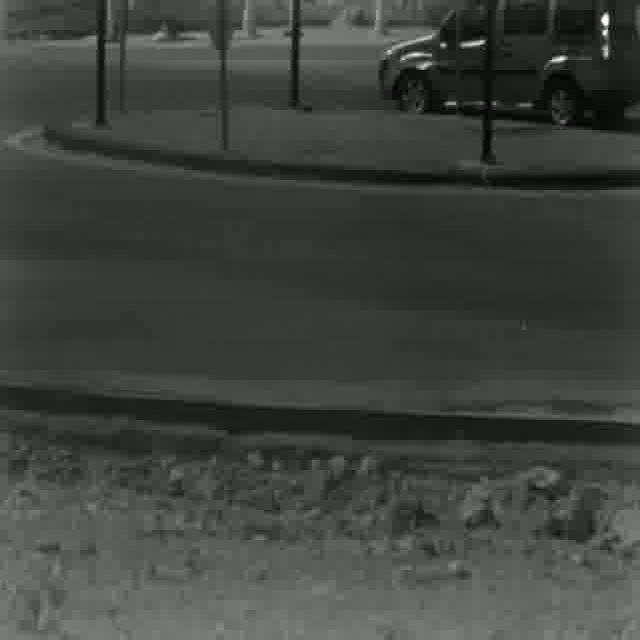Car: (374, 0, 640, 125)
